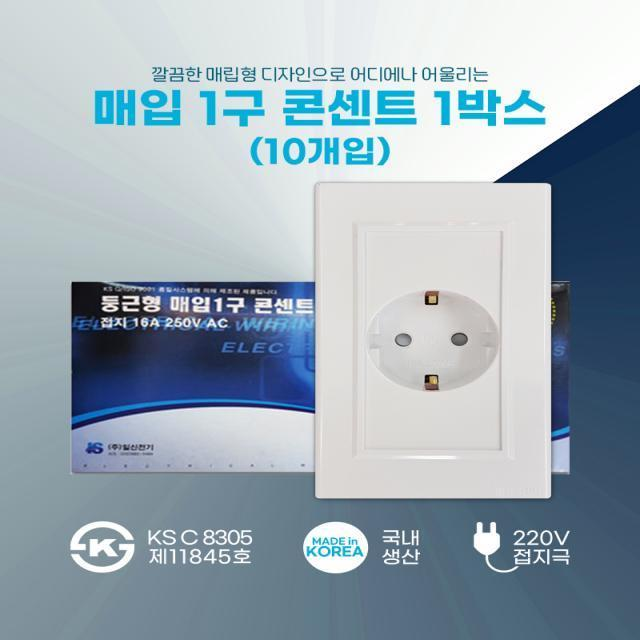typeb: (275, 167, 592, 511)
